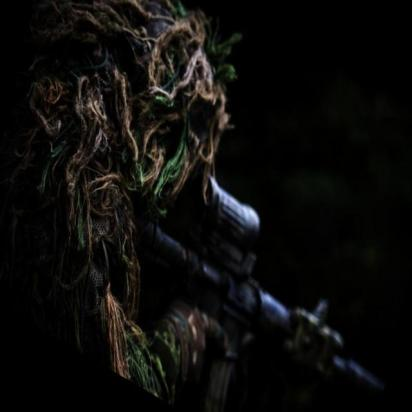Gun: (108, 126, 406, 412)
